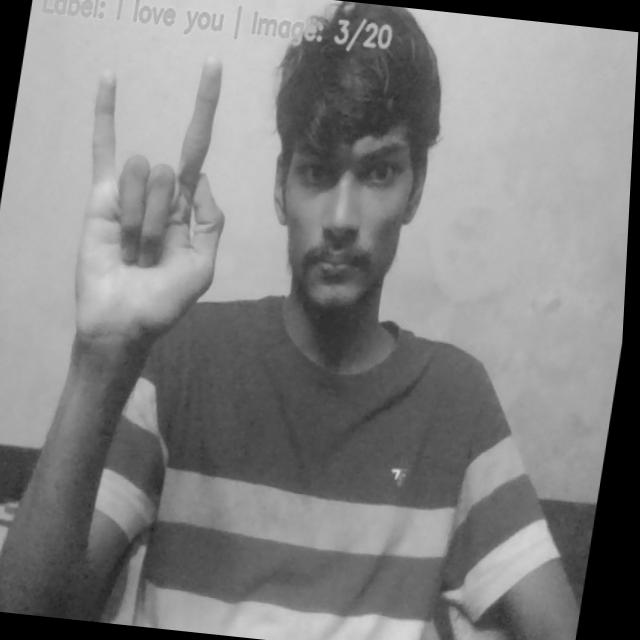I love you: (60, 39, 256, 357)
